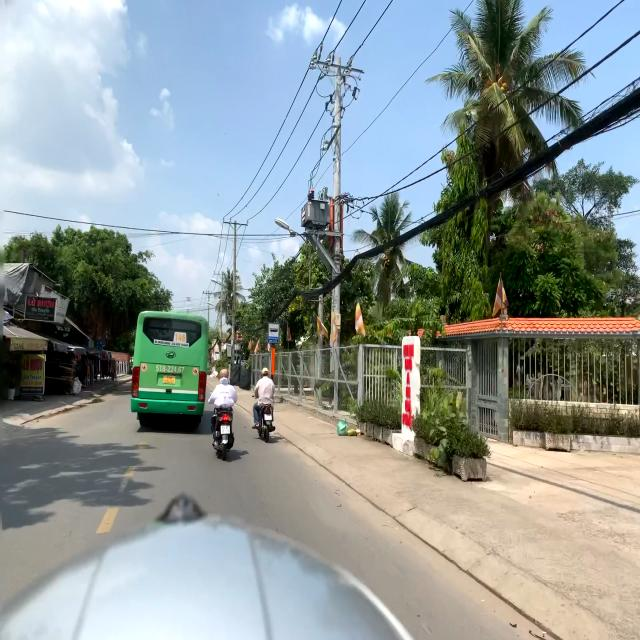R.434: (268, 323, 280, 344)
